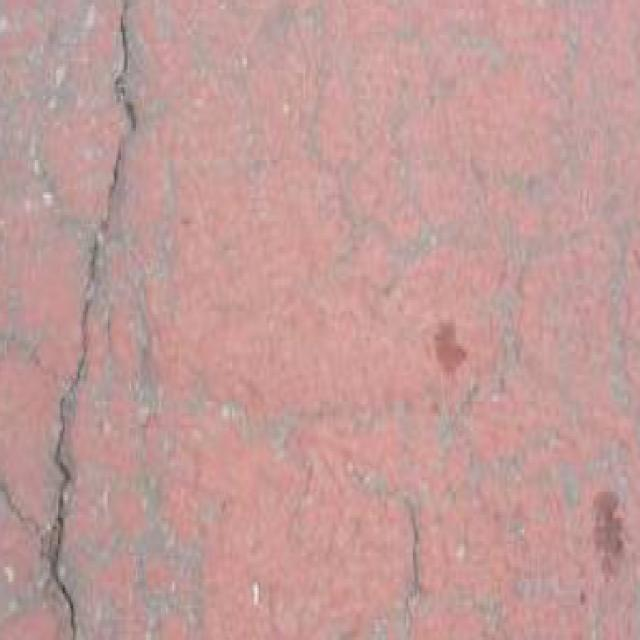vertical cracks: (46, 0, 136, 639)
